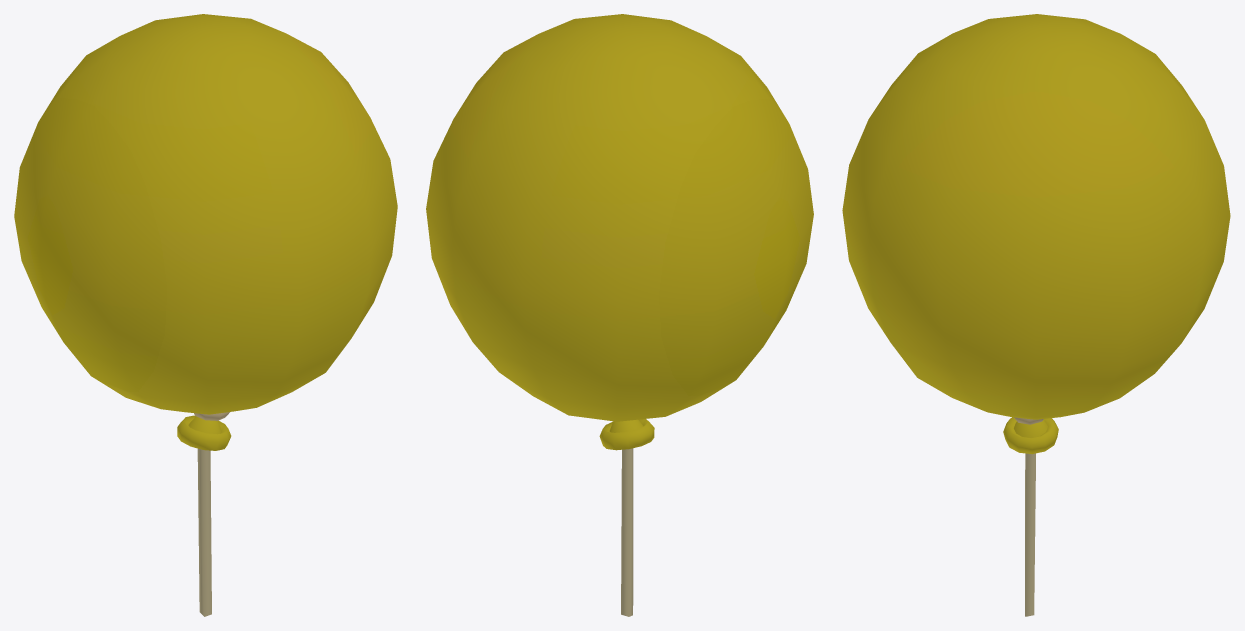
Rendered from balloon-0.glb.
3 views of the same model, side by side, from view 1: azimuth 30°, elevation 25°; view 2: azimuth 150°, elevation 25°; view 3: azimuth 270°, elevation 25° (orthographic).
Bounding box in the file's own units: 5.36 × 8.94 × 5.36.
1 material, 1 textured.
